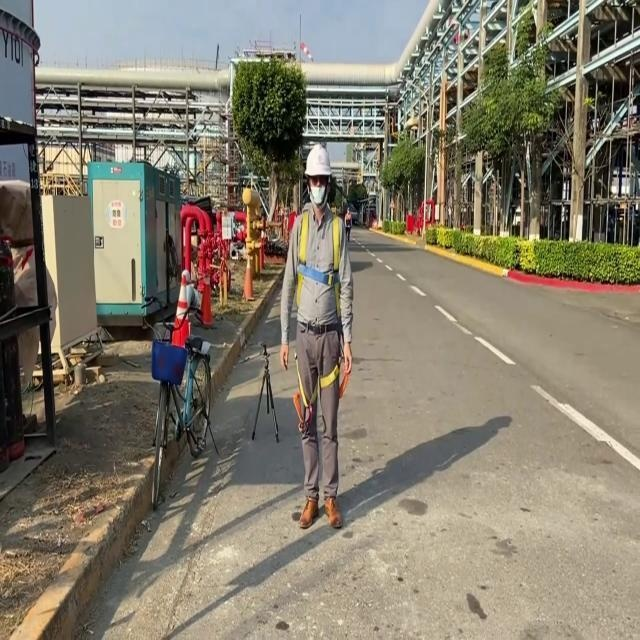Arnes_seguridad: (289, 205, 348, 387)
